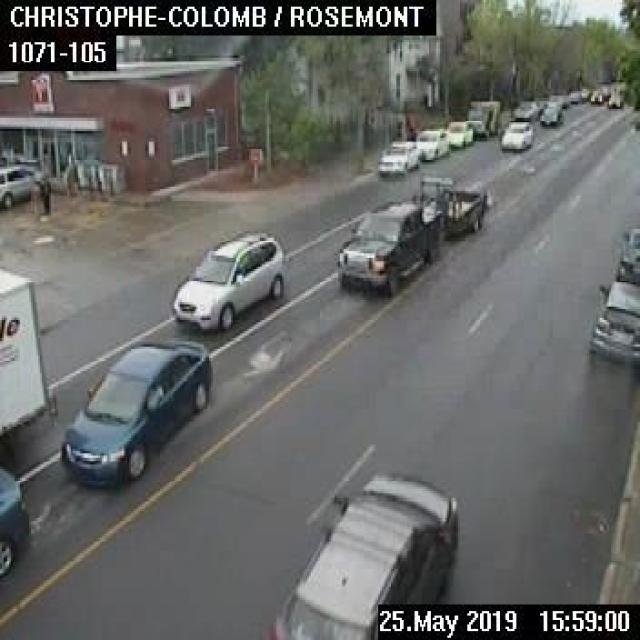pedestrian: (38, 175, 49, 212)
vehicle: (274, 469, 456, 638), (61, 340, 210, 486), (336, 173, 485, 295), (171, 231, 283, 331), (0, 264, 56, 431), (586, 280, 638, 362), (0, 466, 29, 574), (0, 164, 42, 207), (376, 140, 419, 173), (464, 99, 498, 137), (616, 227, 638, 279), (416, 128, 448, 160), (499, 120, 532, 150), (445, 120, 472, 146), (512, 100, 538, 119), (539, 105, 563, 124), (606, 84, 622, 106), (589, 88, 601, 102), (568, 91, 580, 102), (580, 89, 590, 101)
